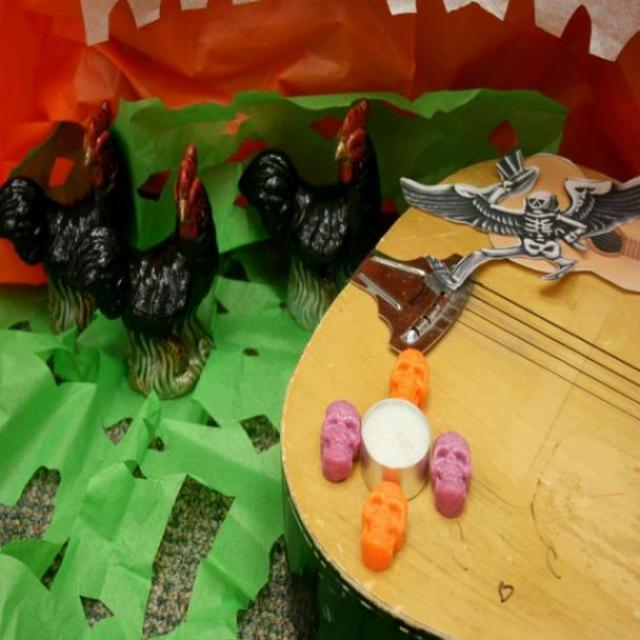Chicken: (74, 133, 232, 393), (232, 92, 388, 325), (0, 85, 142, 334)
